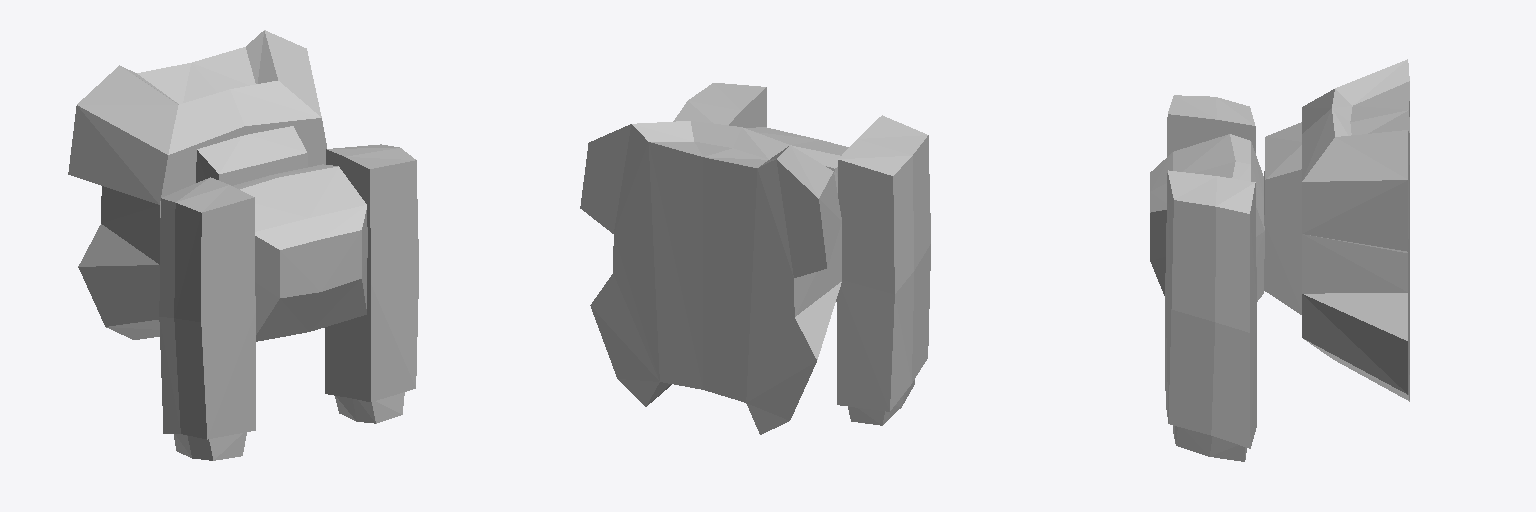
The model's file is r-launcher-05.obj.
3 views of the same model, side by side, from view 1: azimuth 30°, elevation 25°; view 2: azimuth 150°, elevation 25°; view 3: azimuth 270°, elevation 25° (orthographic).
Parts seen in each view (by area): view 1: r_launcher_05; view 2: r_launcher_05; view 3: r_launcher_05.
Boxes of the visible parts, <box> form: r_launcher_05: <box>68,30,418,460</box>; r_launcher_05: <box>580,83,930,434</box>; r_launcher_05: <box>1150,59,1409,461</box>.
Size of the model in its own units: 3.43 by 4.28 by 3.12.